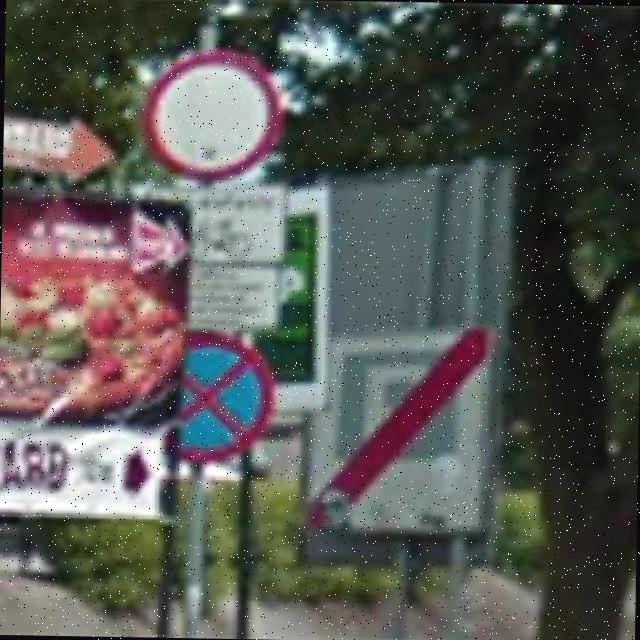Zakaz ruchu w obu kierunkach: (138, 48, 282, 184)
Zakaz zatrzymywania sie: (169, 326, 277, 466)
